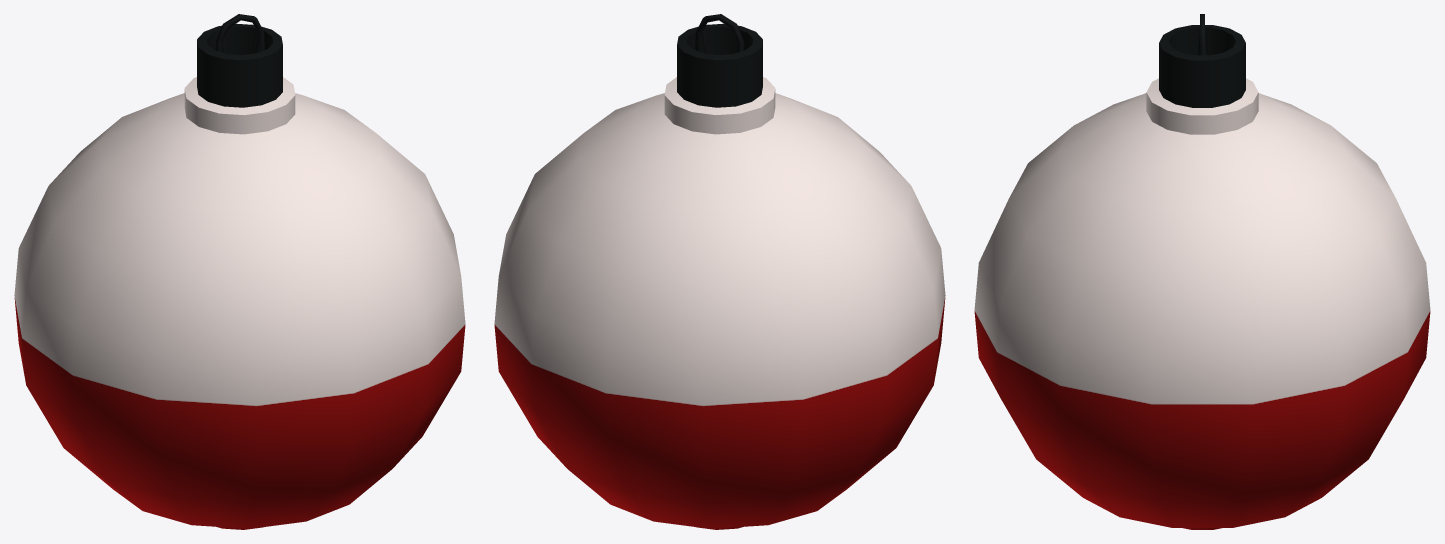
The model's file is Bobber0.fbx.
3 renders of one model, left to right at view 1: azimuth 30°, elevation 25°; view 2: azimuth 150°, elevation 25°; view 3: azimuth 270°, elevation 25°, orthographic.
Visible parts, largest first — view 1: Bobber0; view 2: Bobber0; view 3: Bobber0.
Boxes of the visible parts, x1,y1,x2,y2 form: Bobber0: [14, 14, 465, 529]; Bobber0: [494, 14, 945, 529]; Bobber0: [974, 14, 1430, 529].
Size of the model in its own units: 7.65 by 9.52 by 7.85.
